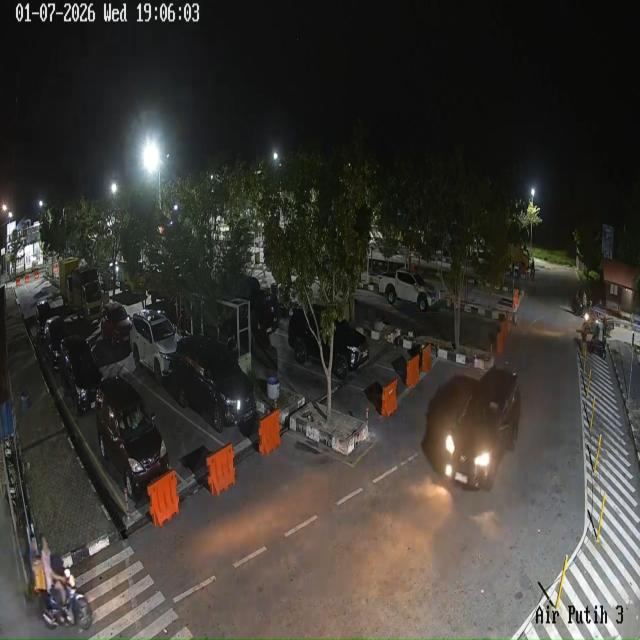Golongan IVA: (427, 367, 521, 490), (96, 376, 169, 500), (172, 336, 256, 432), (288, 305, 369, 380), (129, 310, 178, 384), (59, 334, 103, 416), (43, 316, 68, 370), (101, 302, 131, 346), (36, 300, 52, 339)
Golongan IVB: (378, 270, 436, 312)
Golongan VB: (58, 257, 108, 321)
